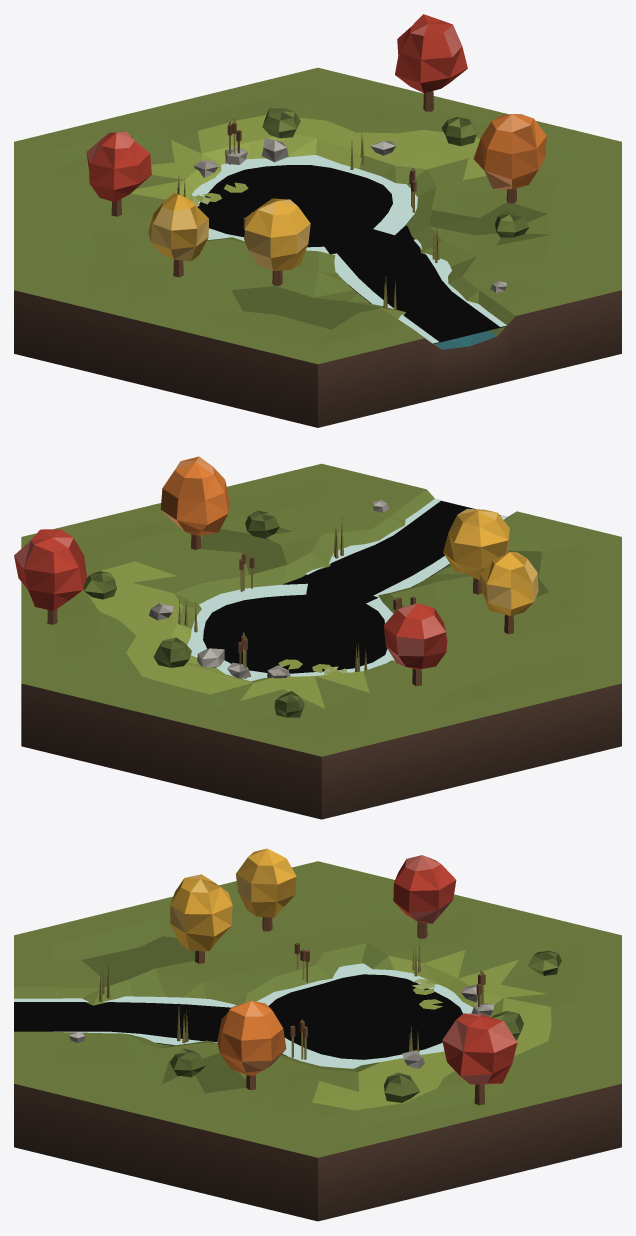
The model's file is SM_Tile_River_Source.fbx.
3 renders of one model, top to bottom at view 1: azimuth 30°, elevation 25°; view 2: azimuth 150°, elevation 25°; view 3: azimuth 270°, elevation 25°, orthographic.
Parts seen in each view (by area): view 1: SM_Tile_River_Source; view 2: SM_Tile_River_Source; view 3: SM_Tile_River_Source.
Part boxes in pixels (x1,y1,x2,y2): SM_Tile_River_Source: [14, 14, 621, 427]; SM_Tile_River_Source: [14, 456, 621, 819]; SM_Tile_River_Source: [14, 848, 621, 1221].
Size of the model in its own units: 20 by 4.74 by 17.32.
